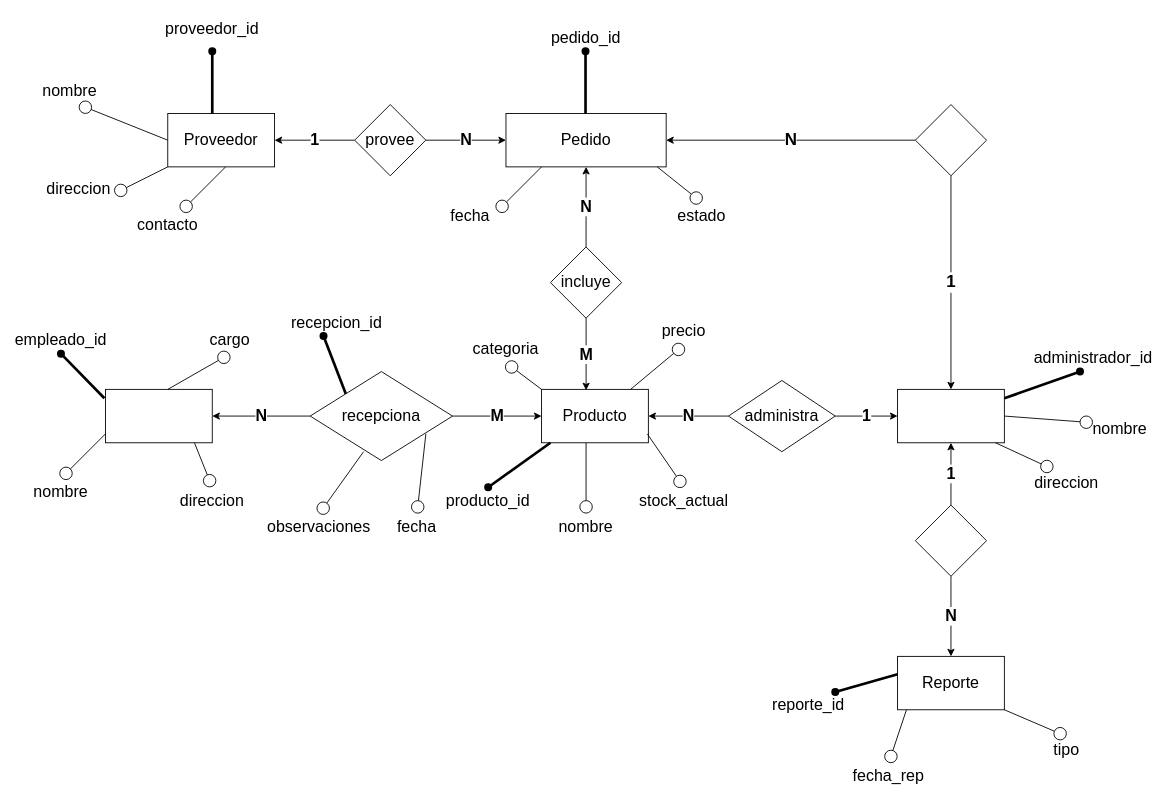
Some shapes in this 1168 by 805 pixel diagram are drawn without their labels. The box of each missing label's shape, as (x1, y1, x2, y2) in pixels:
Administrador: (897, 388, 1004, 443)
Empleado: (105, 388, 212, 443)
genera: (914, 504, 987, 576)
realiza: (914, 104, 987, 176)
